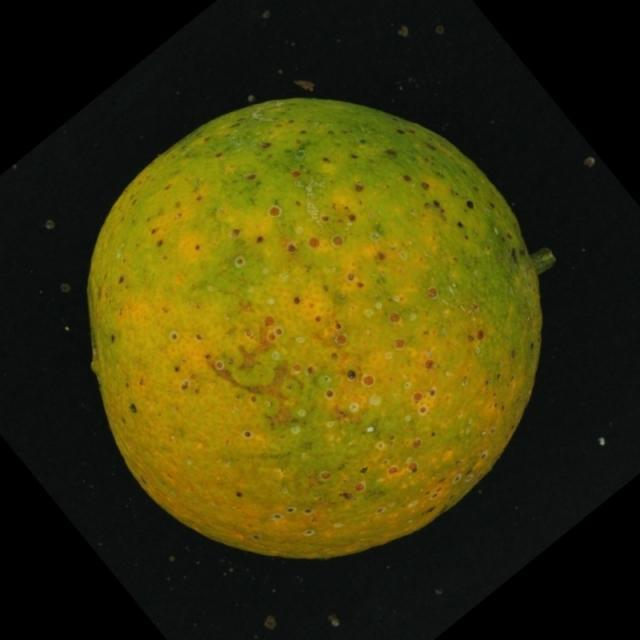grenning: (66, 80, 565, 577)
